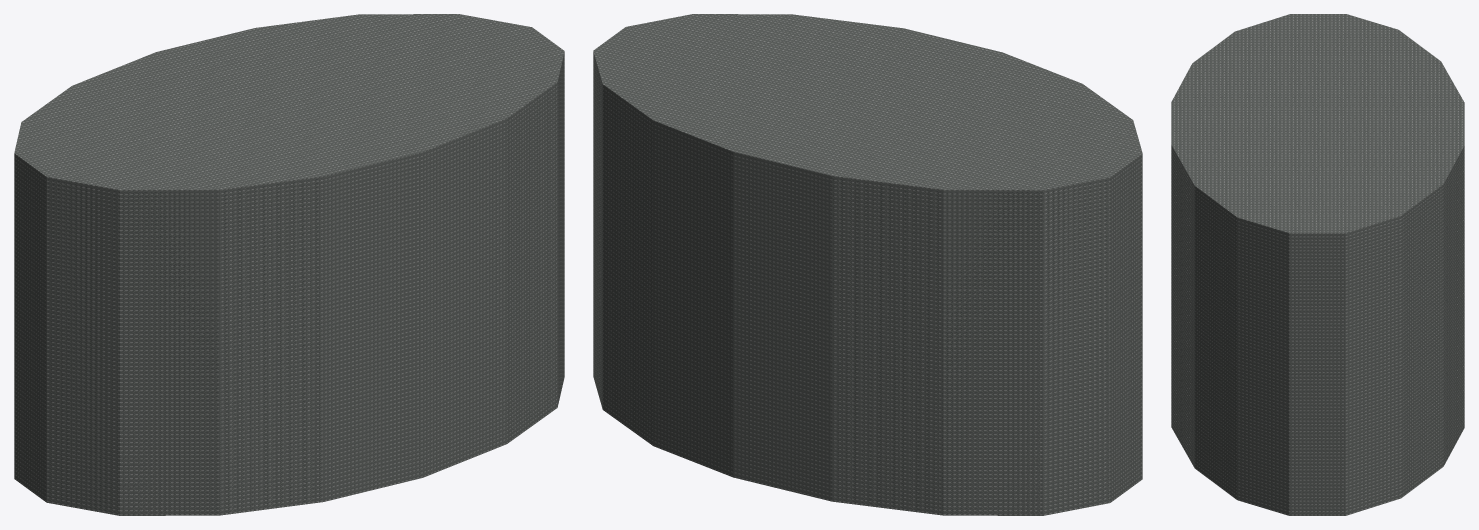
The model's file is GolfWall.glb.
3 views of the same model, side by side, from view 1: azimuth 30°, elevation 25°; view 2: azimuth 150°, elevation 25°; view 3: azimuth 270°, elevation 25° (orthographic). The views are drawn at different scales.
Visible parts, largest first — view 1: GolfWall; view 2: GolfWall; view 3: GolfWall.
Part boxes in pixels (x1,y1,x2,y2): GolfWall: [14, 14, 564, 515]; GolfWall: [593, 14, 1142, 515]; GolfWall: [1171, 14, 1464, 515].
Bounding box in the file's own units: 17306 × 10410 × 9793.
1 material, 1 textured.
